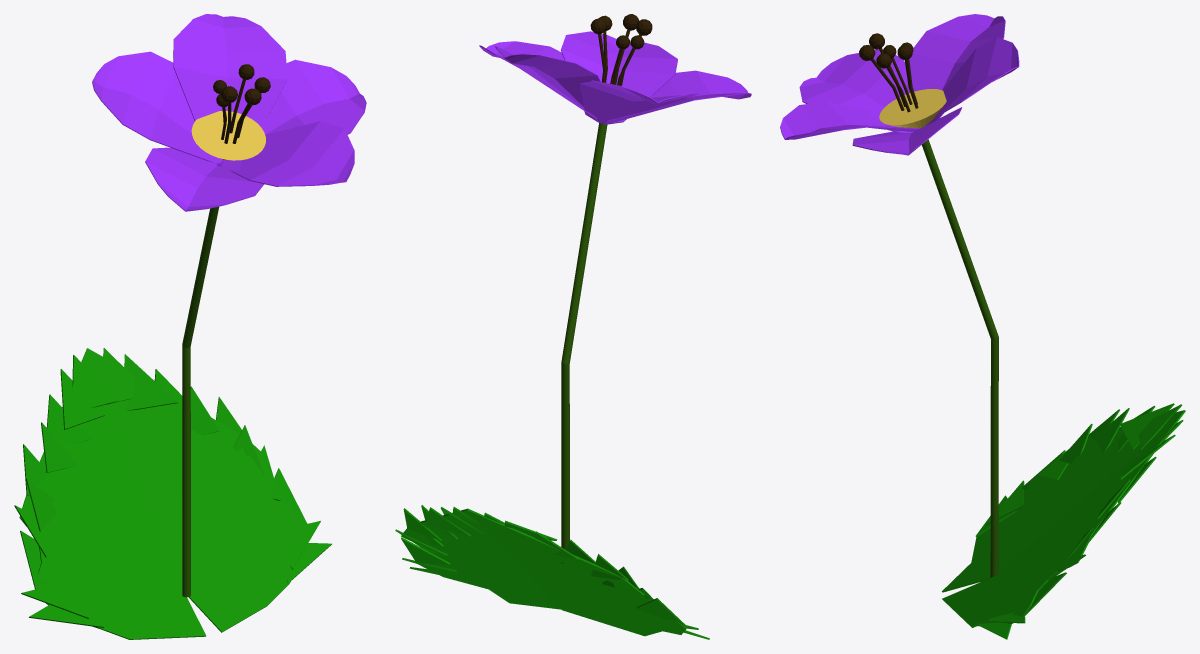
File: violet_FINAL.fbx
3 views of the same model, side by side, from view 1: azimuth 30°, elevation 25°; view 2: azimuth 150°, elevation 25°; view 3: azimuth 270°, elevation 25° (orthographic). The views are drawn at different scales.
Parts seen in each view (by area): view 1: violet.complete; view 2: violet.complete; view 3: violet.complete.
Part boxes in pixels (bbox=[...]): violet.complete: bbox=[14, 14, 366, 639]; violet.complete: bbox=[395, 14, 751, 639]; violet.complete: bbox=[780, 14, 1185, 639].
Size of the model in its own units: 10.11 by 18.6 by 12.19.
